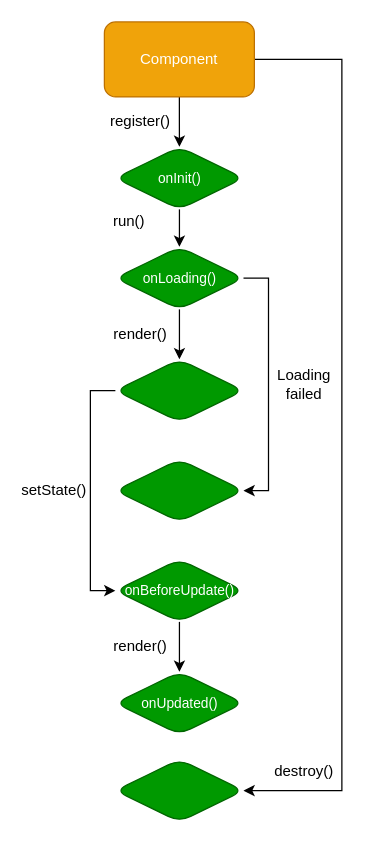
Image size: 374x844. Some labels were removed from this diagram. The shapes that lost their labels are listed below. From the top down, each one's box as (x1, y1, x2, y2) in pixels, then its label:
(114, 358, 244, 422): onReady()
(114, 458, 244, 522): onError()
(114, 758, 244, 822): onDestroy()
